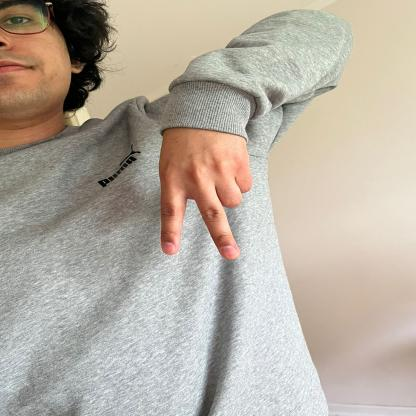N: (158, 99, 254, 260)
